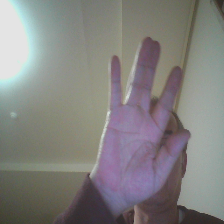hand: (91, 34, 193, 211)
